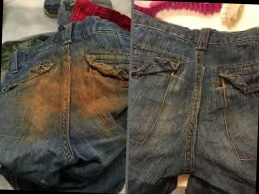earth: (23, 66, 65, 142), (70, 70, 119, 115)
